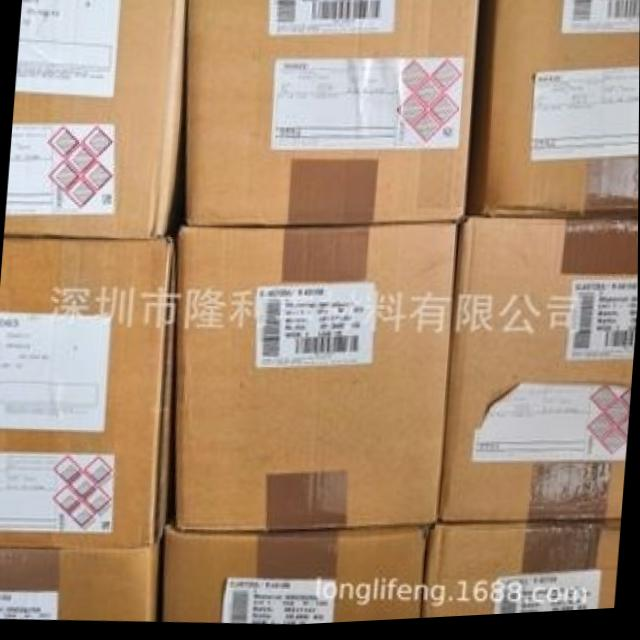box: (180, 228, 461, 534), (186, 0, 478, 228), (437, 223, 639, 529), (0, 241, 177, 550), (4, 0, 186, 238), (468, 0, 640, 225), (161, 529, 425, 626), (420, 529, 616, 623), (0, 532, 166, 620)
